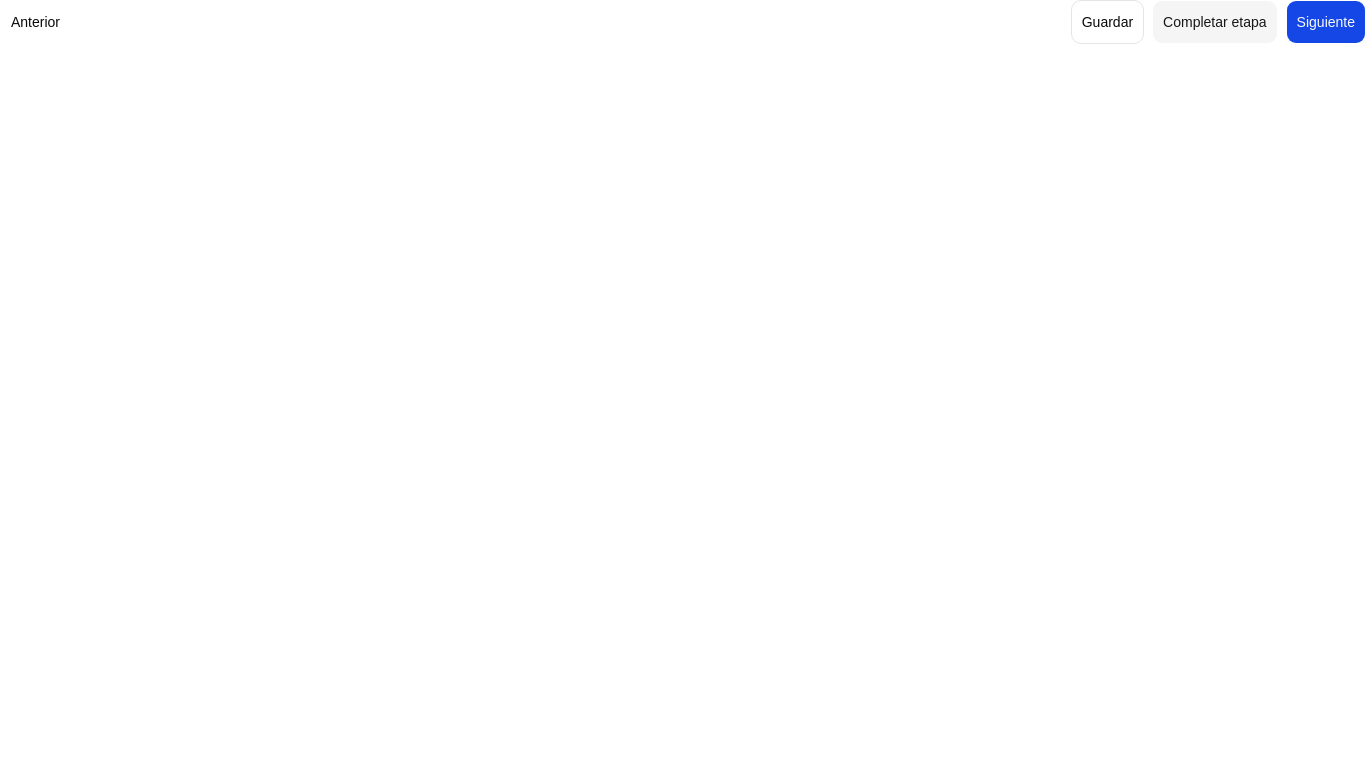
Test: CaseWizardActionBar — «Anterior» (SPEC FE16 §4 paso 6) › con el formulario sucio, cancelar el diálogo no navega
The width and height of the screenshot is (1366, 768).
Click the button "Anterior" at (36, 22), box [0, 0, 71, 44]
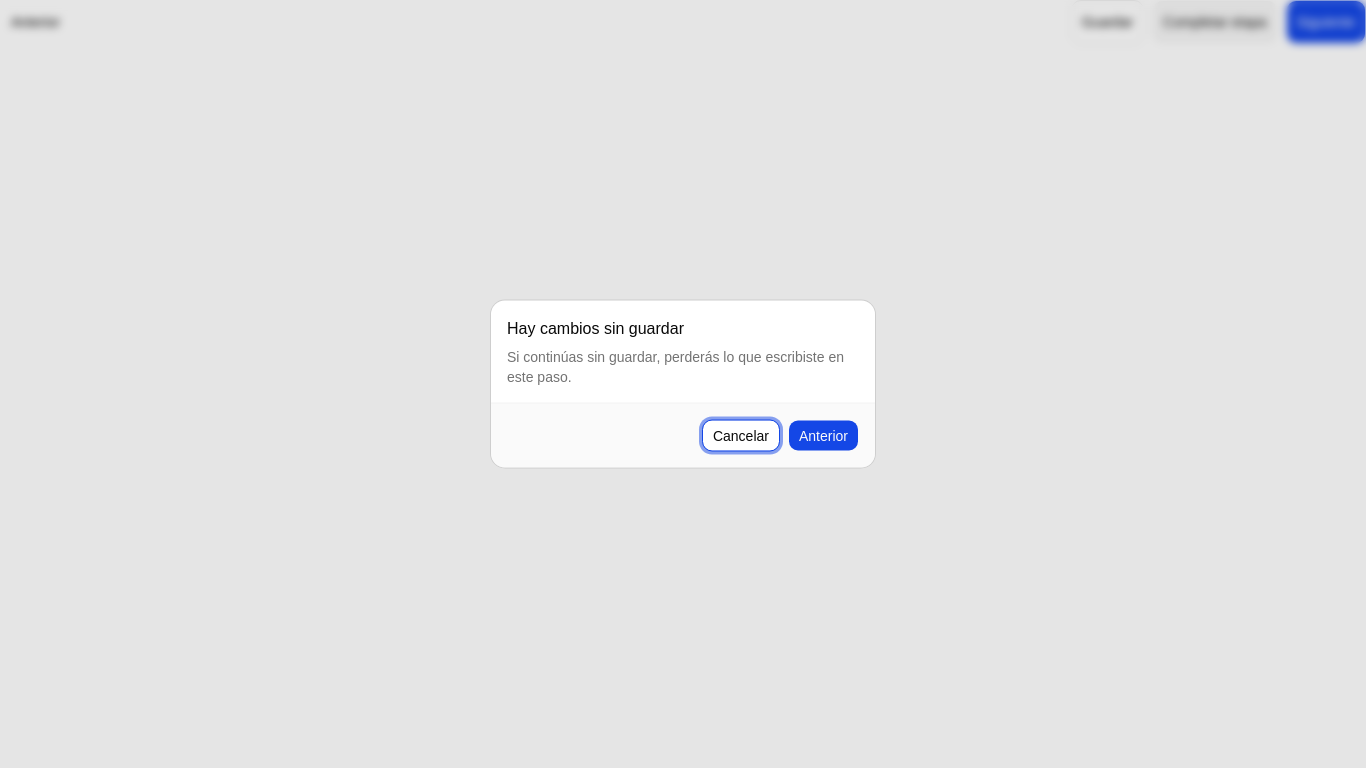
Click the button "Cancelar" at (741, 436), box [702, 420, 780, 452]
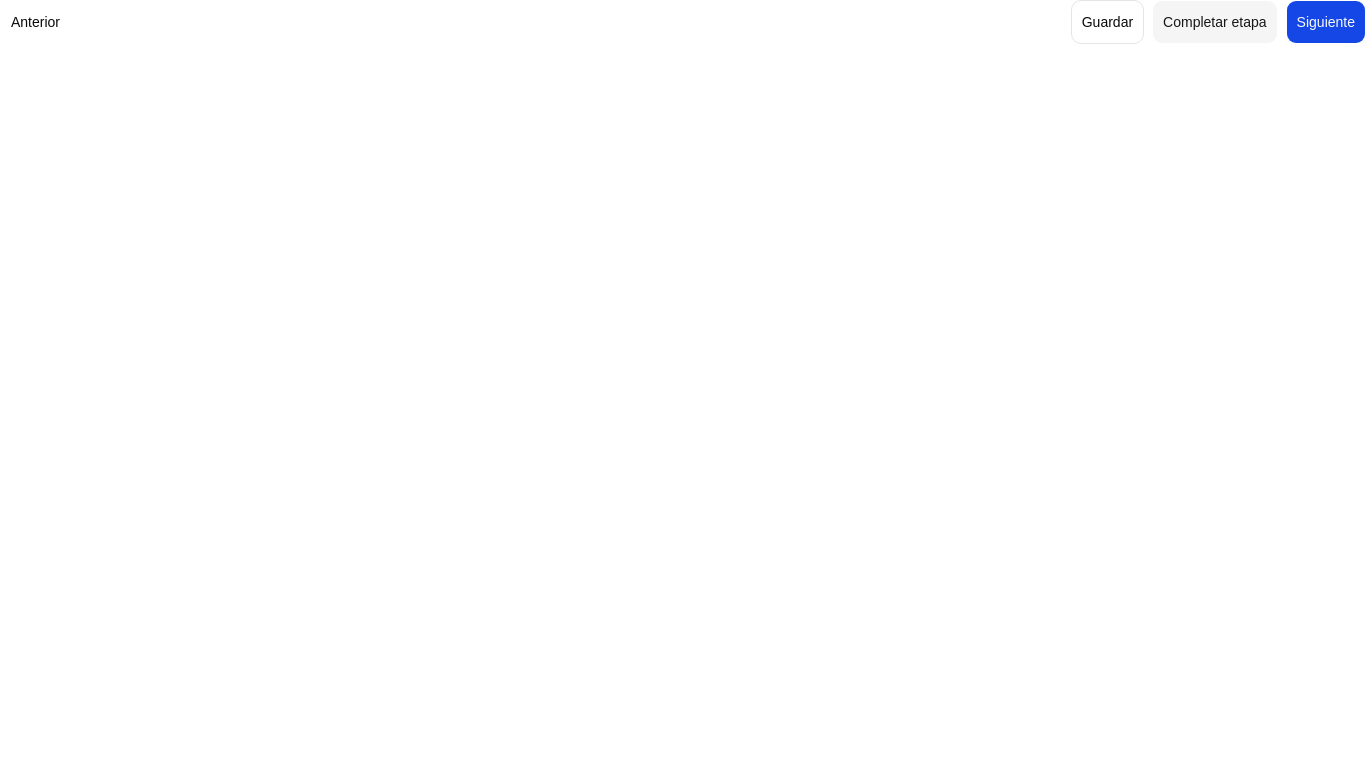
Now the dialog is gone
